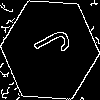J: (25, 25, 73, 68)
